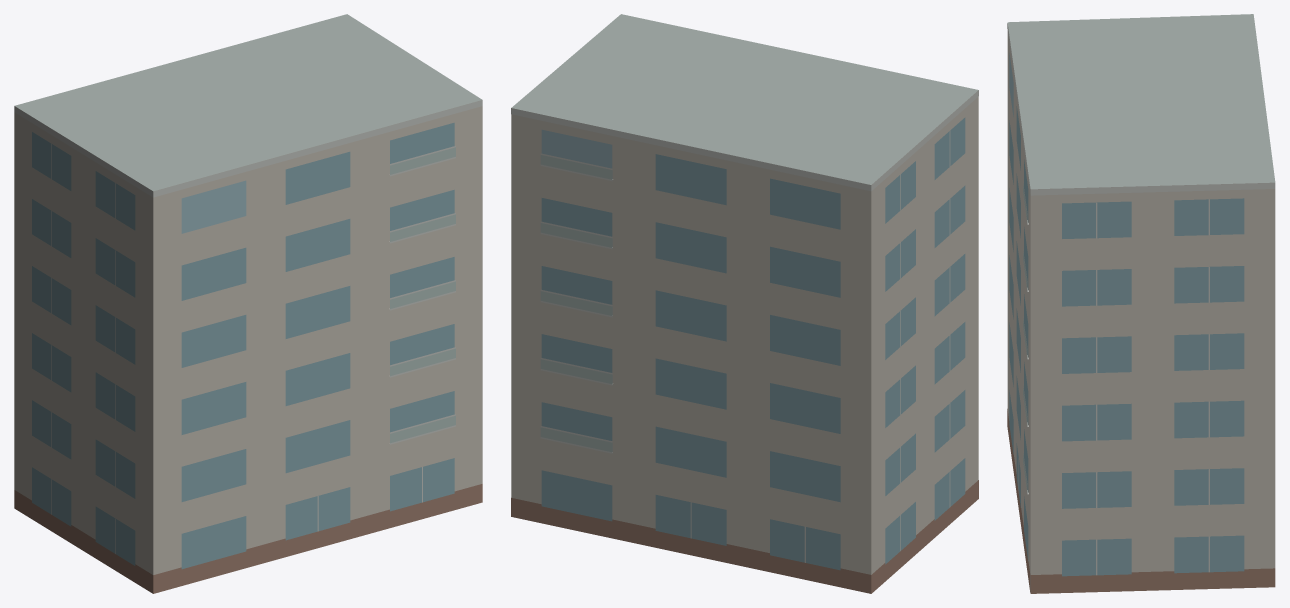
Rendered from survey-upis-32887737.glb.
The picture shows the model from 3 angles, left to right: view 1: azimuth 30°, elevation 25°; view 2: azimuth 150°, elevation 25°; view 3: azimuth 270°, elevation 25°; orthographic projection.
Parts seen in each view (by area): view 1: survey-upis-32887737.tmp; view 2: survey-upis-32887737.tmp; view 3: survey-upis-32887737.tmp.
Part boxes in pixels (x1=…): survey-upis-32887737.tmp: x1=14, y1=14, x2=482, y2=593; survey-upis-32887737.tmp: x1=511, y1=14, x2=978, y2=593; survey-upis-32887737.tmp: x1=1007, y1=14, x2=1275, y2=593.
Size of the model in its own units: 14.69 by 15.8 by 9.49.
